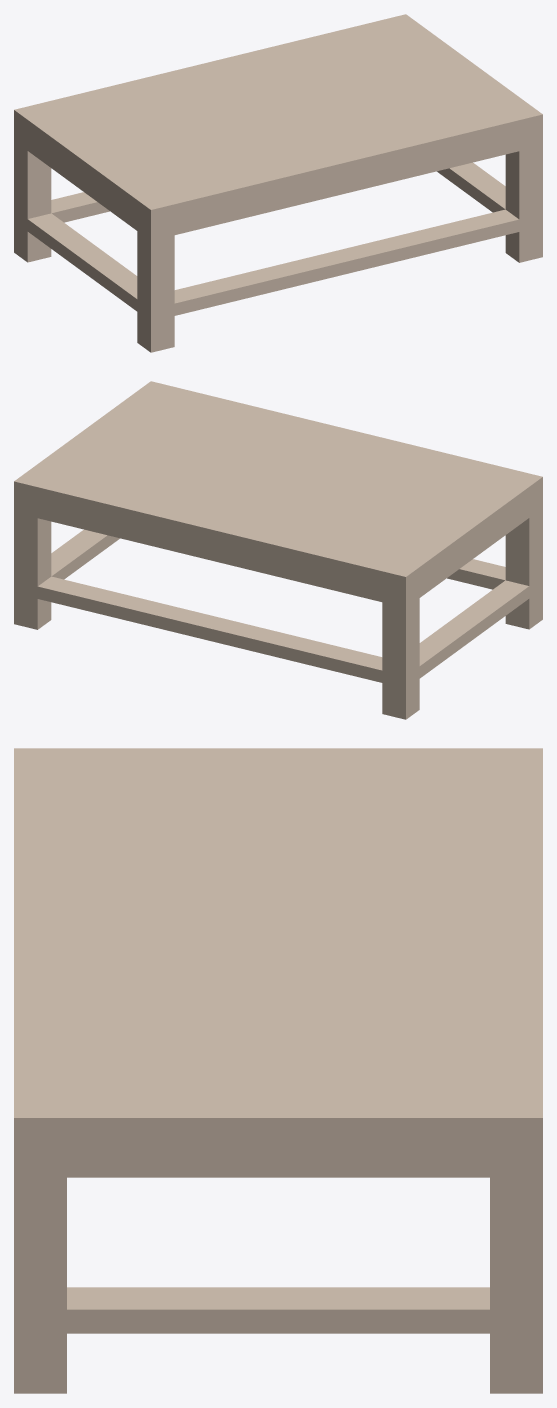
Rendered from furn_tableCoffee.glb.
3 views of the same model, one above another, from view 1: azimuth 30°, elevation 25°; view 2: azimuth 150°, elevation 25°; view 3: azimuth 270°, elevation 25° (orthographic). The views are drawn at different scales.
Bounding box in the file's own units: 1.32 × 0.46 × 0.8.
